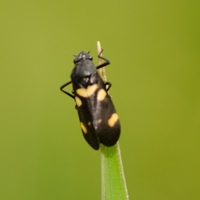insect: (60, 52, 119, 149)
